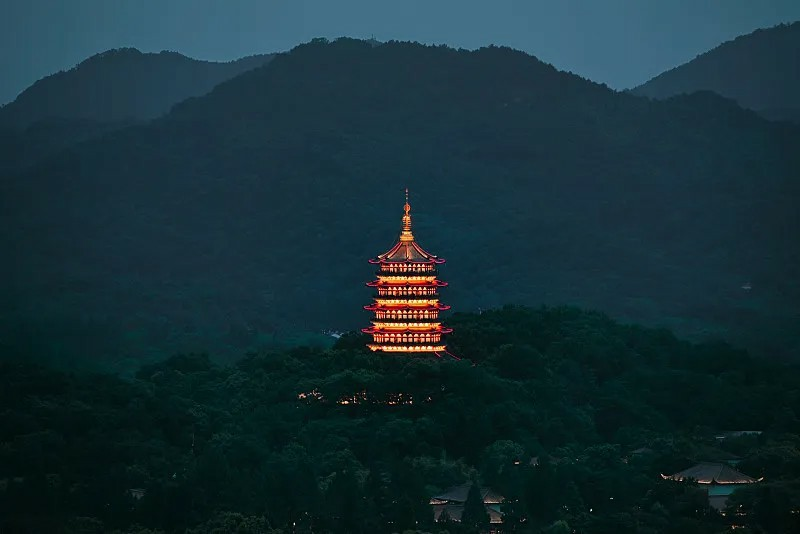Leifeng: (358, 184, 456, 355)
